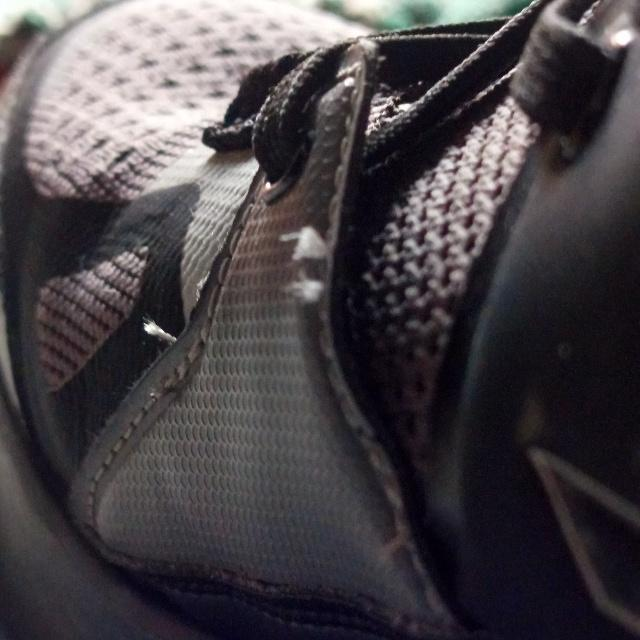broken-error: (280, 226, 349, 313)
